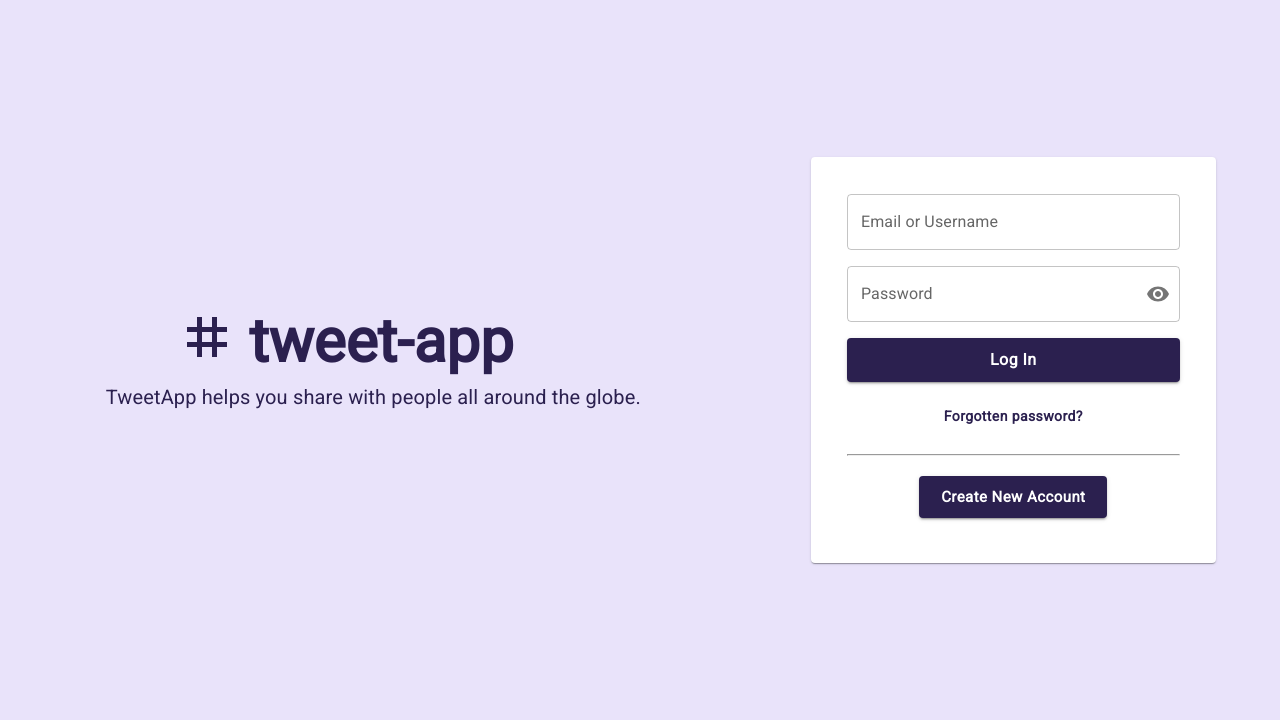
renders register form
Click the button with test id "register-button" at x=1013, y=497, box x1=919 y1=476 x2=1108 y2=518
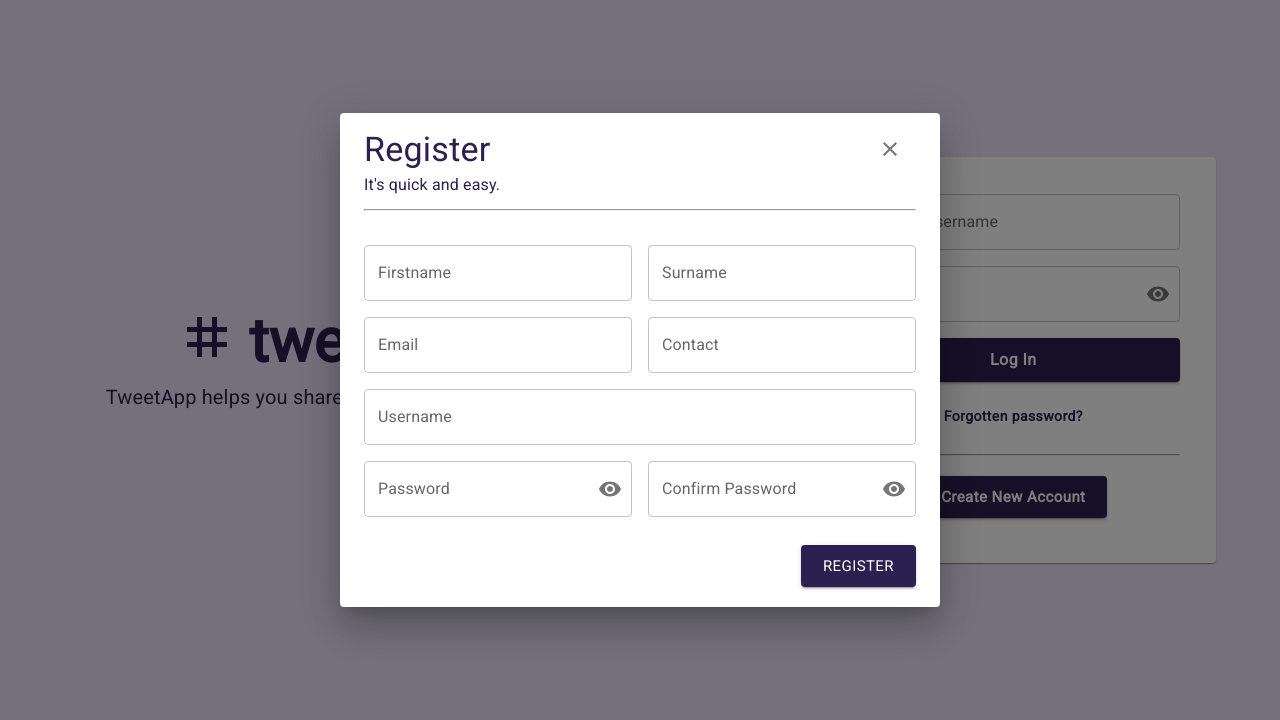
Expected: the element with test id "register-dialog" is shown
Expected: the number of headings "Register" is 2, x1=364 y1=129 x2=491 y2=169; x1=801 y1=545 x2=916 y2=587
Expected: the text "It's quick and easy." is shown, x1=364 y1=175 x2=500 y2=194
